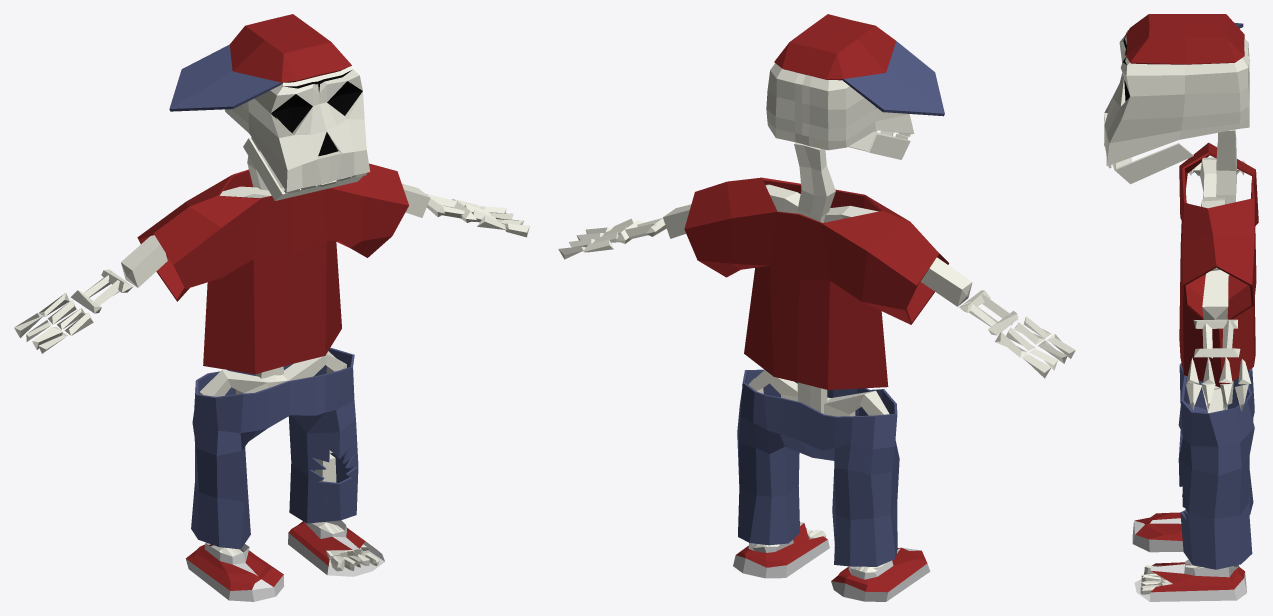
The model's file is Brad_Mesh2.fbx.
The picture shows the model from 3 angles, left to right: view 1: azimuth 30°, elevation 25°; view 2: azimuth 150°, elevation 25°; view 3: azimuth 270°, elevation 25°; orthographic projection.
Visible parts, largest first — view 1: Brad; view 2: Brad; view 3: Brad.
Part boxes in pixels (x1,y1,x2,y2): Brad: (14,14,529,601); Brad: (558,14,1075,601); Brad: (1104,14,1258,601).
Bounding box in the file's own units: 149 × 154 × 40.09.
